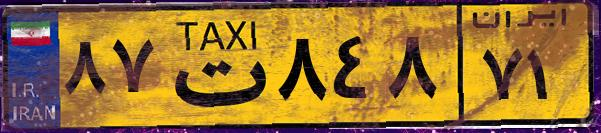1: (525, 38, 570, 115)
4: (330, 28, 385, 110)
7: (475, 38, 525, 113), (110, 28, 158, 98)
8: (270, 28, 330, 110), (385, 28, 445, 110), (57, 26, 110, 100)
ت: (158, 12, 270, 120)
